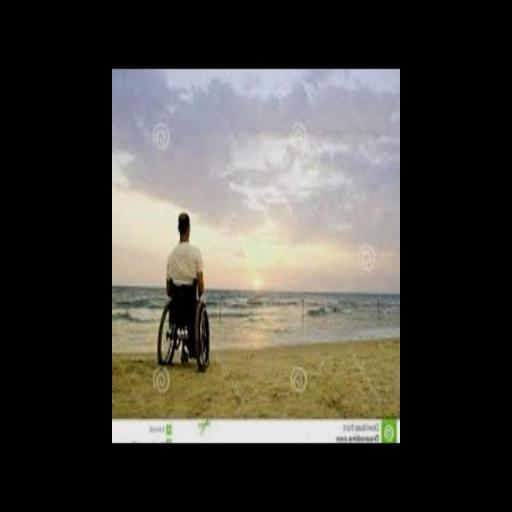cadeira_de_rodas: (155, 207, 211, 376)
